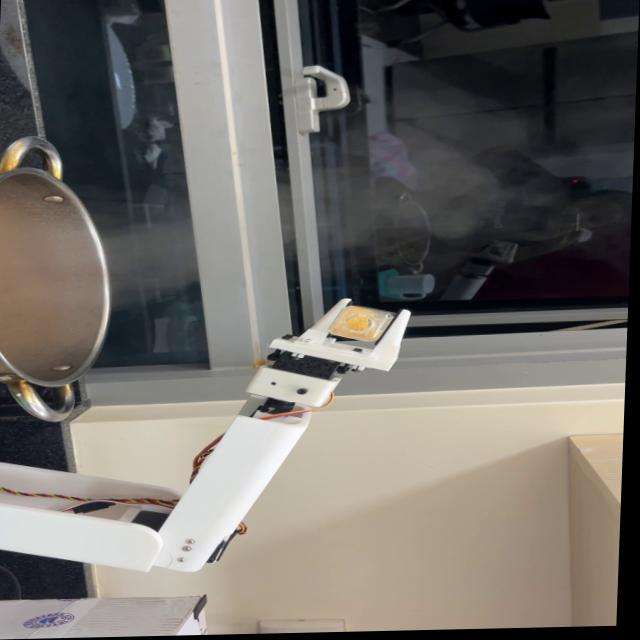cooking_pot: (0, 133, 120, 424)
curry_powder: (327, 308, 382, 343)
